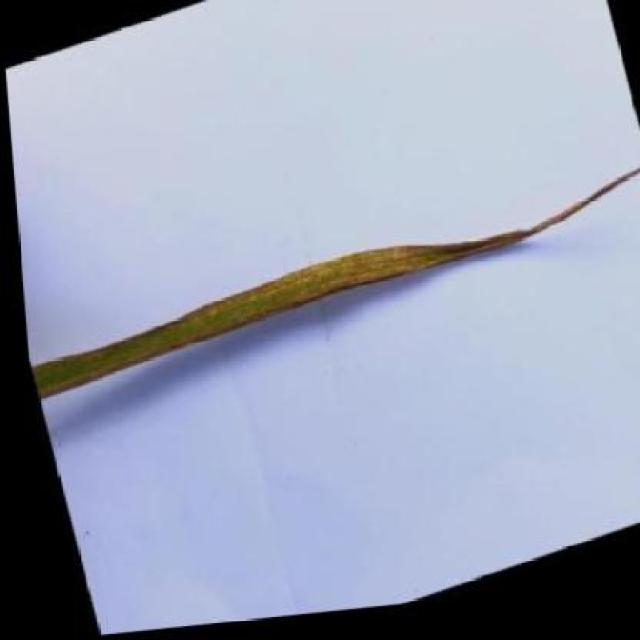Rice False Smut: (28, 240, 532, 396)
